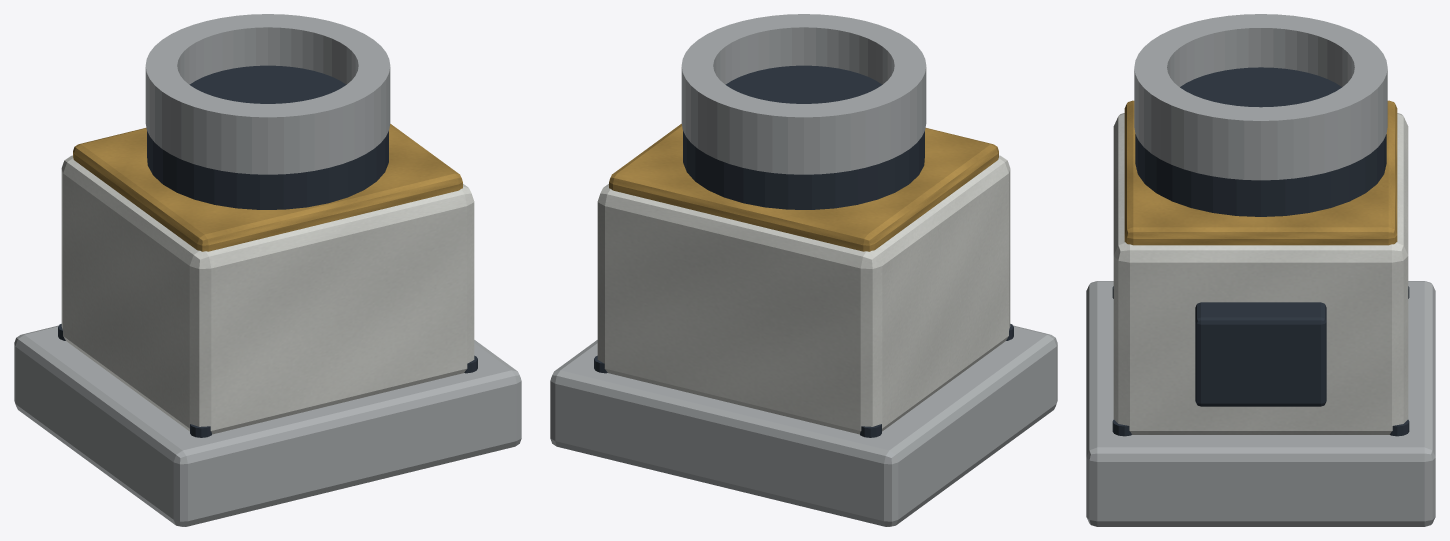
The model's file is probe_mapping_camera.glb.
3 renders of one model, left to right at view 1: azimuth 30°, elevation 25°; view 2: azimuth 150°, elevation 25°; view 3: azimuth 270°, elevation 25°, orthographic. The views are drawn at different scales.
Parts seen in each view (by area): view 1: Camera_Housing, Camera_Mount.001, Lens_Hood, Camera_ThermalCover, Lens_Base; view 2: Camera_Housing, Camera_Mount.001, Lens_Hood, Camera_ThermalCover, Lens_Base; view 3: Camera_Housing, Camera_Mount.001, Lens_Hood, Lens_Base, Connector_Block, Camera_ThermalCover.
Part boxes in pixels (<box>): Camera_Housing: <box>61,155,474,434</box>; Camera_Mount.001: <box>14,325,521,526</box>; Lens_Hood: <box>145,14,390,174</box>; Camera_ThermalCover: <box>73,124,462,251</box>; Lens_Base: <box>147,65,388,209</box>; Camera_Housing: <box>597,155,1010,434</box>; Camera_Mount.001: <box>550,325,1057,526</box>; Lens_Hood: <box>681,14,926,174</box>; Camera_ThermalCover: <box>609,124,998,251</box>; Lens_Base: <box>683,65,924,209</box>; Camera_Housing: <box>1113,113,1408,434</box>; Camera_Mount.001: <box>1086,281,1435,526</box>; Lens_Hood: <box>1134,14,1387,180</box>; Lens_Base: <box>1135,67,1386,216</box>; Connector_Block: <box>1195,302,1326,406</box>; Camera_ThermalCover: <box>1124,100,1397,245</box>.
Size of the model in its own units: 0.3825 by 0.38 by 0.32.
Materials: 4 (2 with a texture image).
